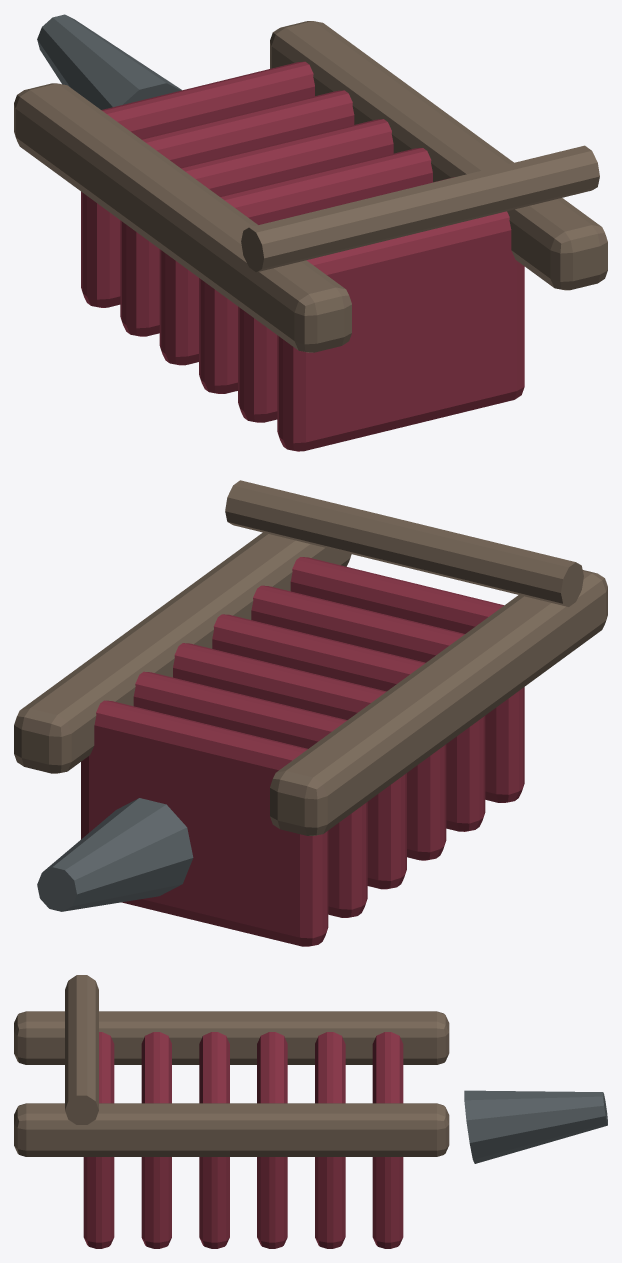
Rendered from forge_bellows.glb.
The picture shows the model from 3 angles, top to bottom: view 1: azimuth 30°, elevation 25°; view 2: azimuth 150°, elevation 25°; view 3: azimuth 270°, elevation 25°; orthographic projection. The views are drawn at different scales.
Parts seen in each view (by area): view 1: Body.079; view 2: Body.079; view 3: Body.079.
Boxes of the visible parts, x1,y1,x2,y2 form: Body.079: [14, 14, 607, 451]; Body.079: [14, 480, 607, 946]; Body.079: [14, 975, 607, 1248].
Size of the model in its own units: 0.42 by 0.2888 by 0.8735.
